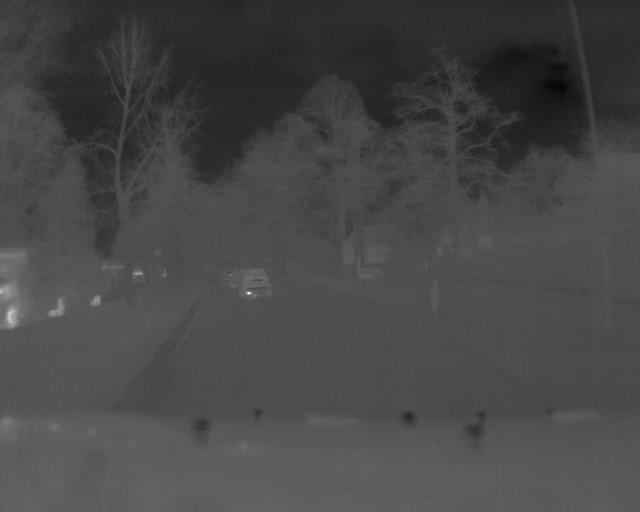car: (233, 265, 276, 295)
